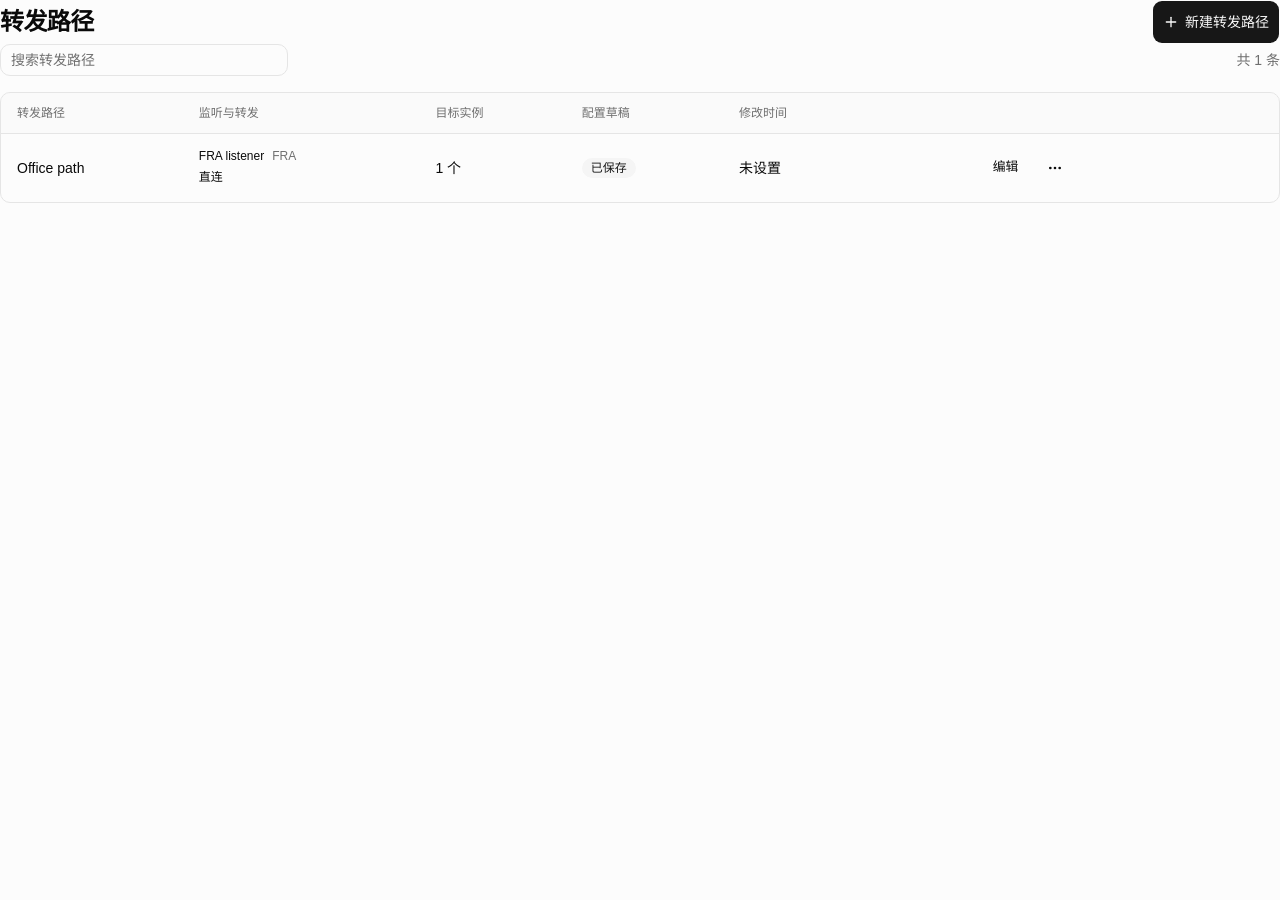
Test case: does not attach a late check to a newly saved revision of the same path
Click the button "Office path".
click(51, 168)  # box [17,158,84,178]
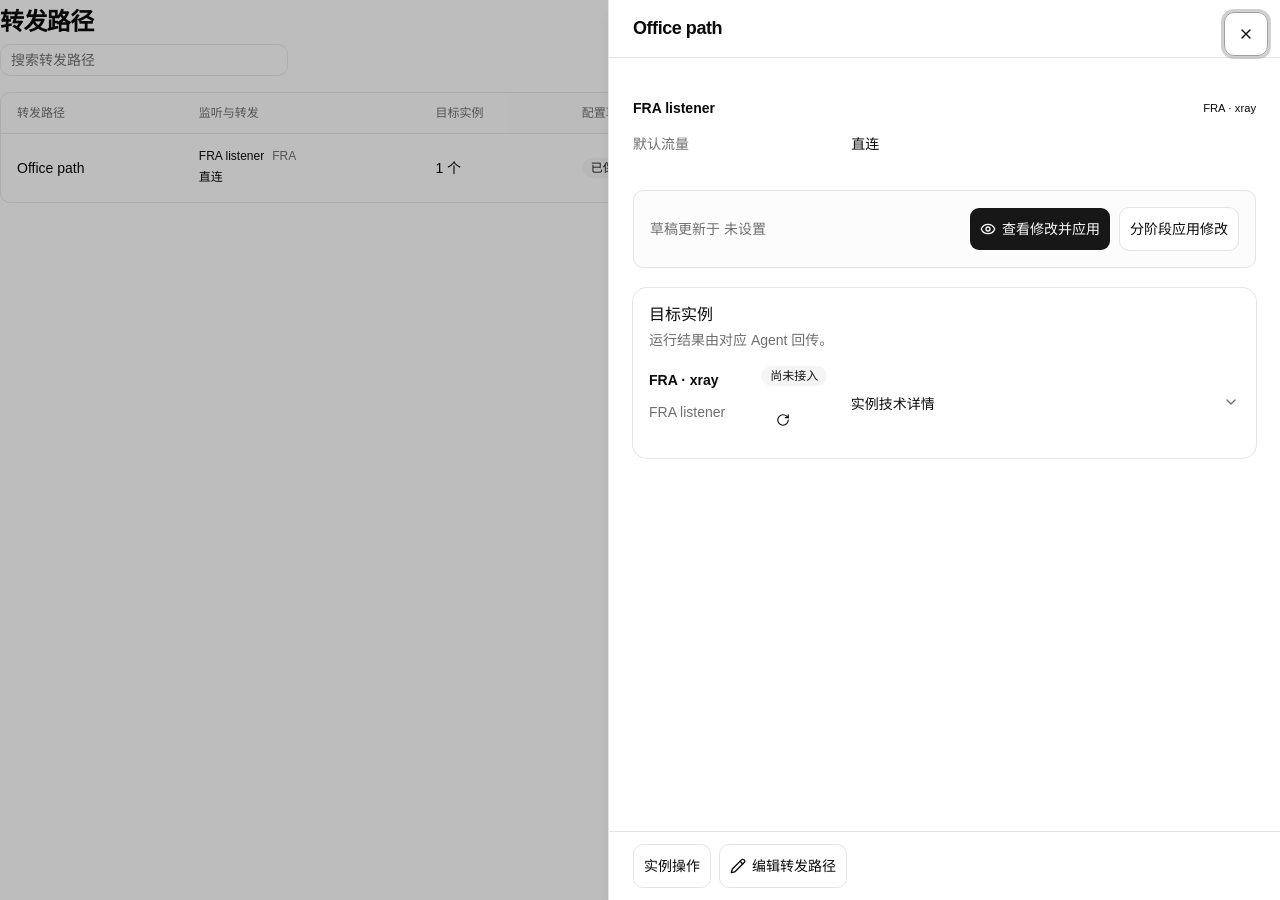
Click the button "查看修改并应用".
click(1040, 229)  # box [969,207,1111,251]
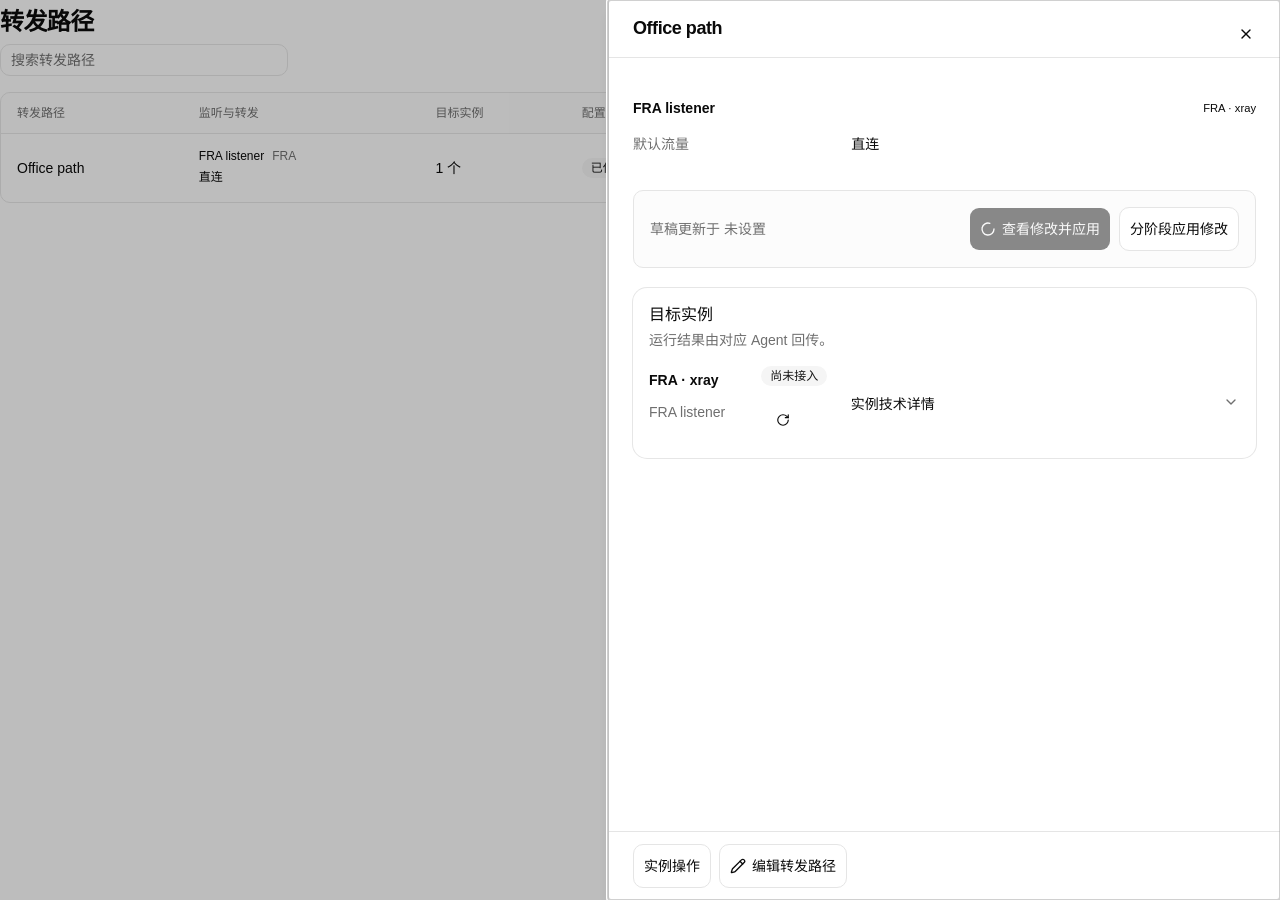
Click the button "编辑转发路径".
click(783, 866)  # box [719,844,847,888]
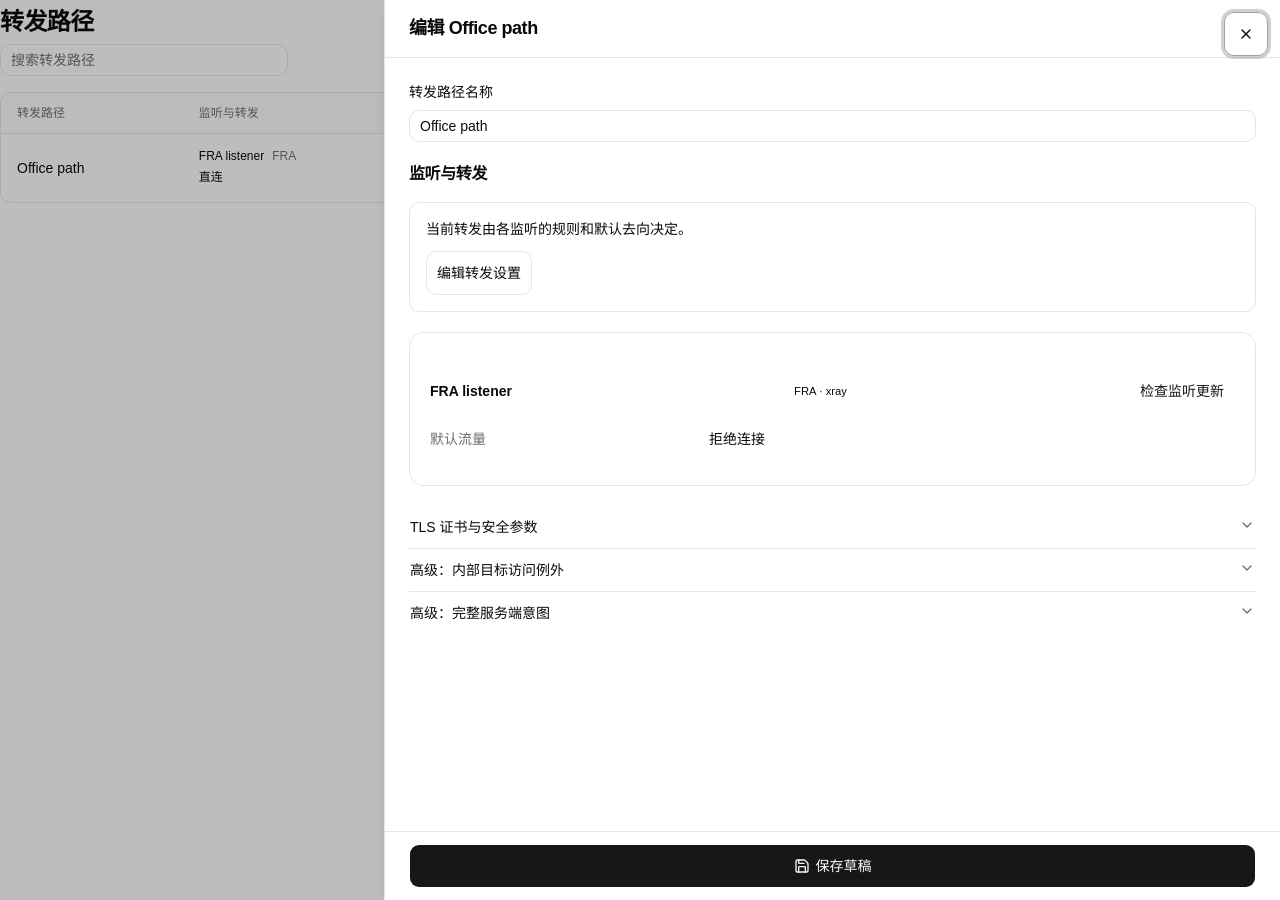
Replace the text in the field labelled "转发路径名称" with "Updated same path" at [832, 126], box [409,110,1256,142]
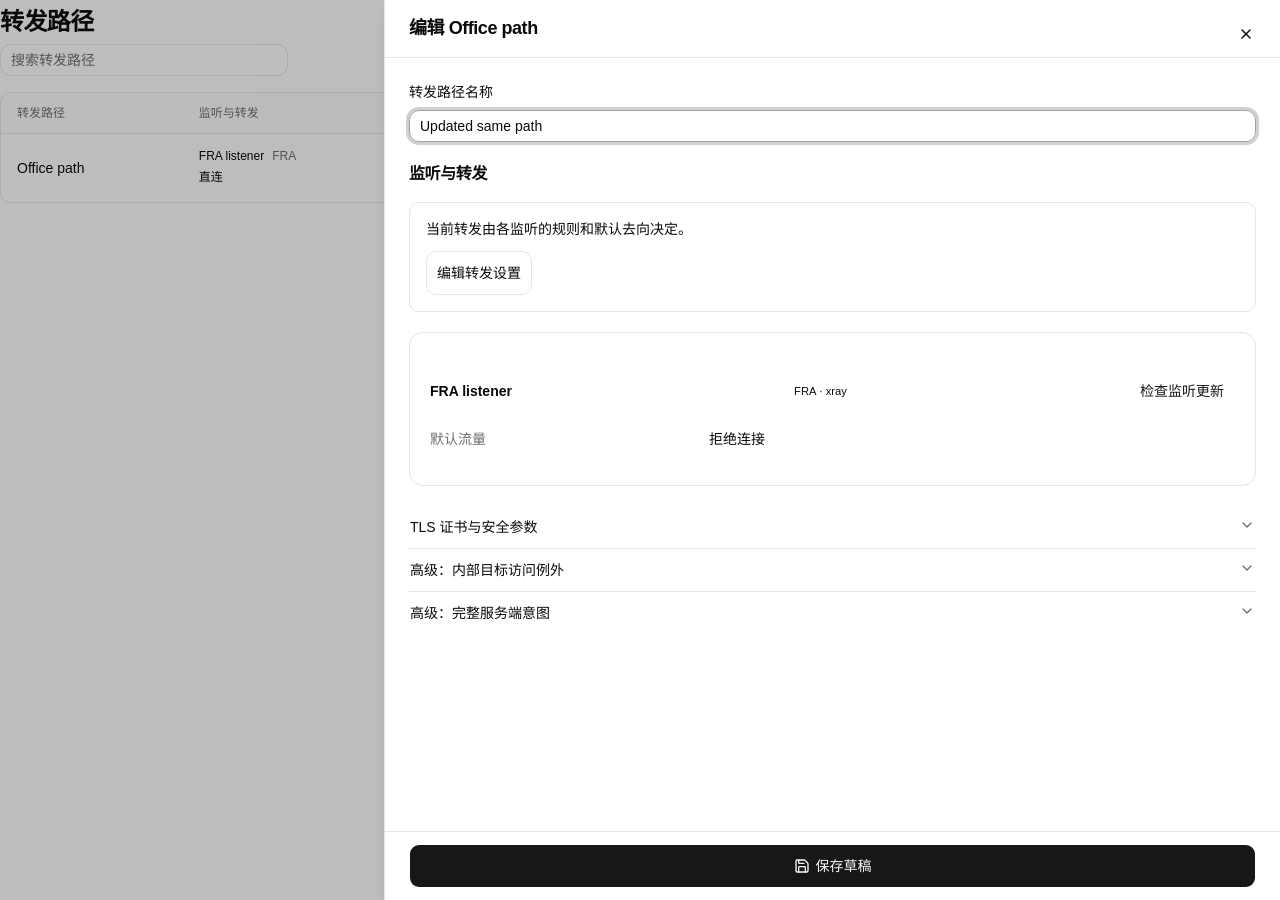
Click the button "保存草稿".
click(832, 866)  # box [409,844,1256,888]
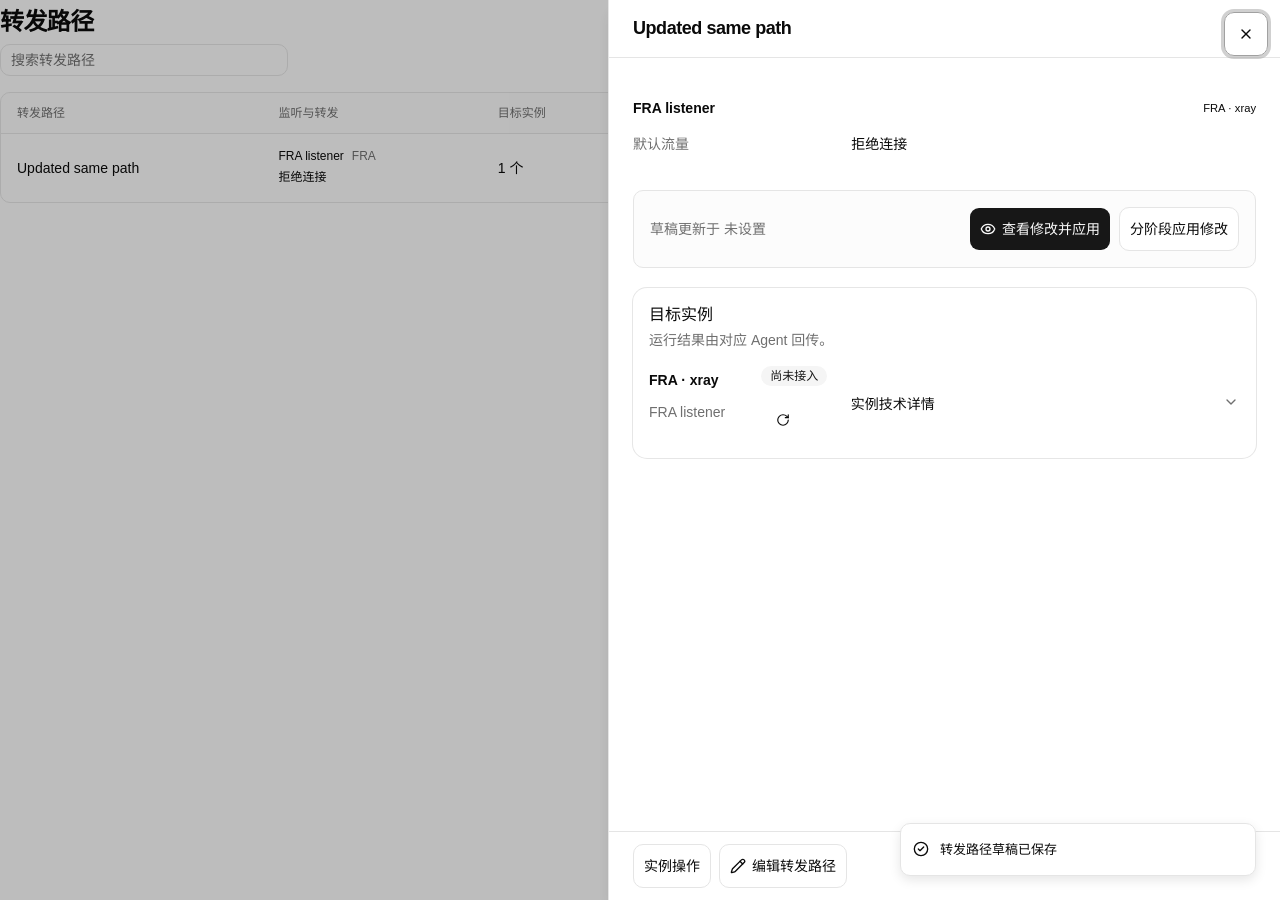
Expected: the dialog "应用转发路径修改" is not shown
Result: the text "拒绝连接" is shown at [851,136,907,152]
Click the button "查看修改并应用".
click(1040, 229)  # box [969,207,1111,251]
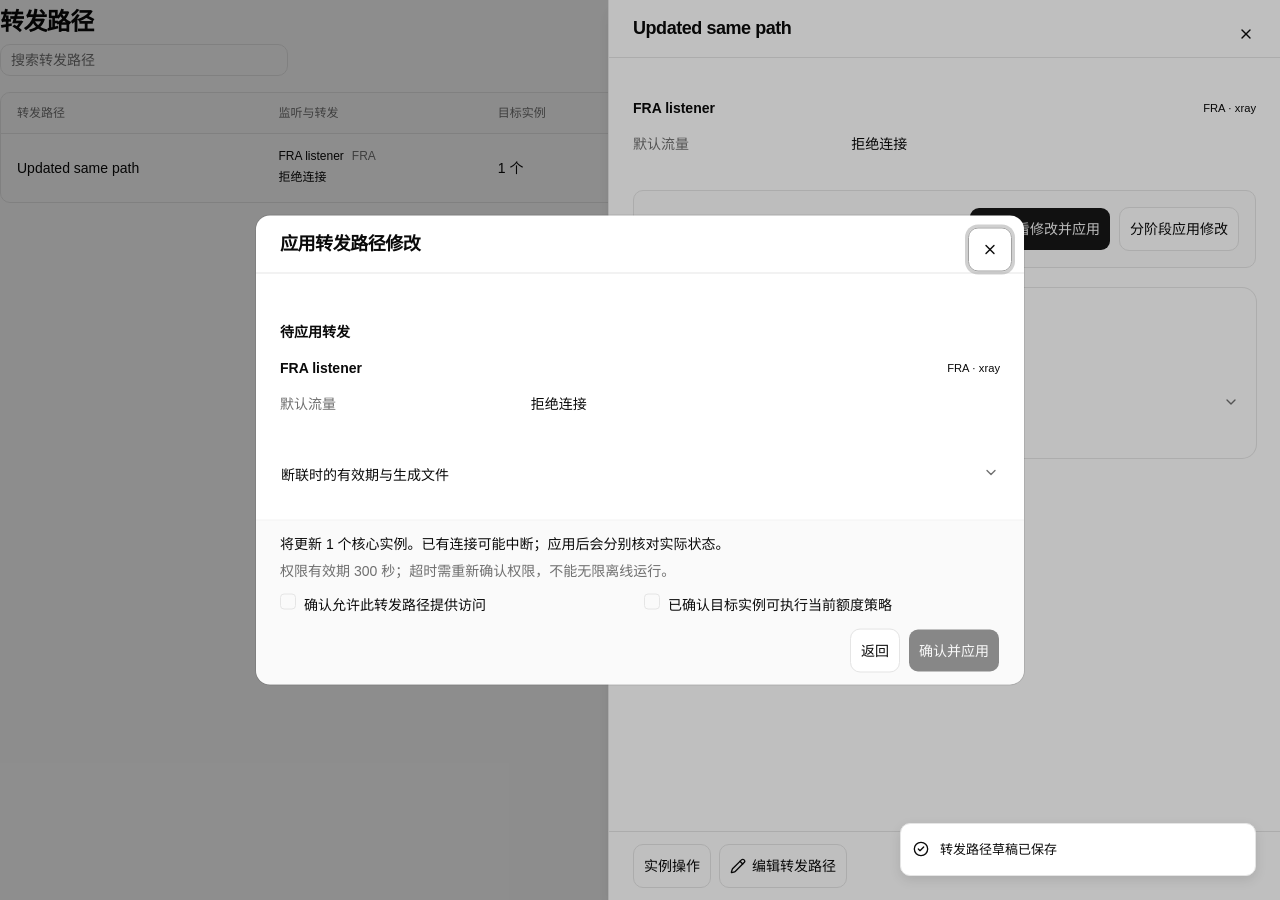
Result: the text "拒绝连接" is shown at [531,395,587,411]
Result: the button "确认并应用" is disabled at [908,628,1000,672]
